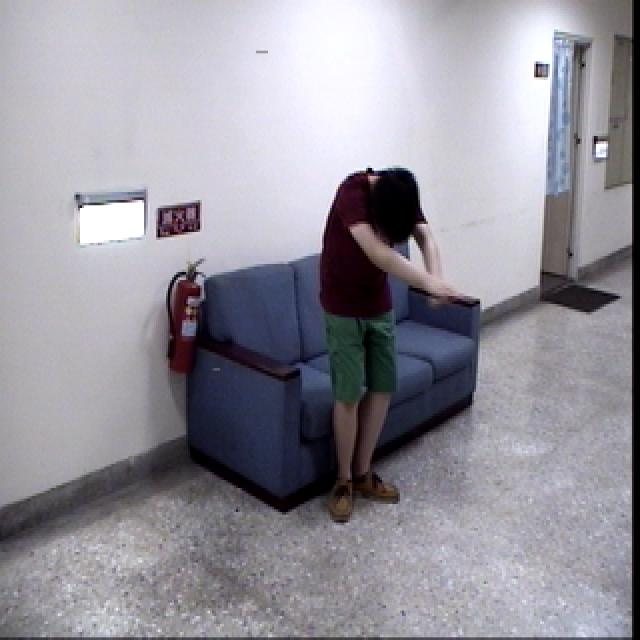bend: (313, 156, 469, 534)
